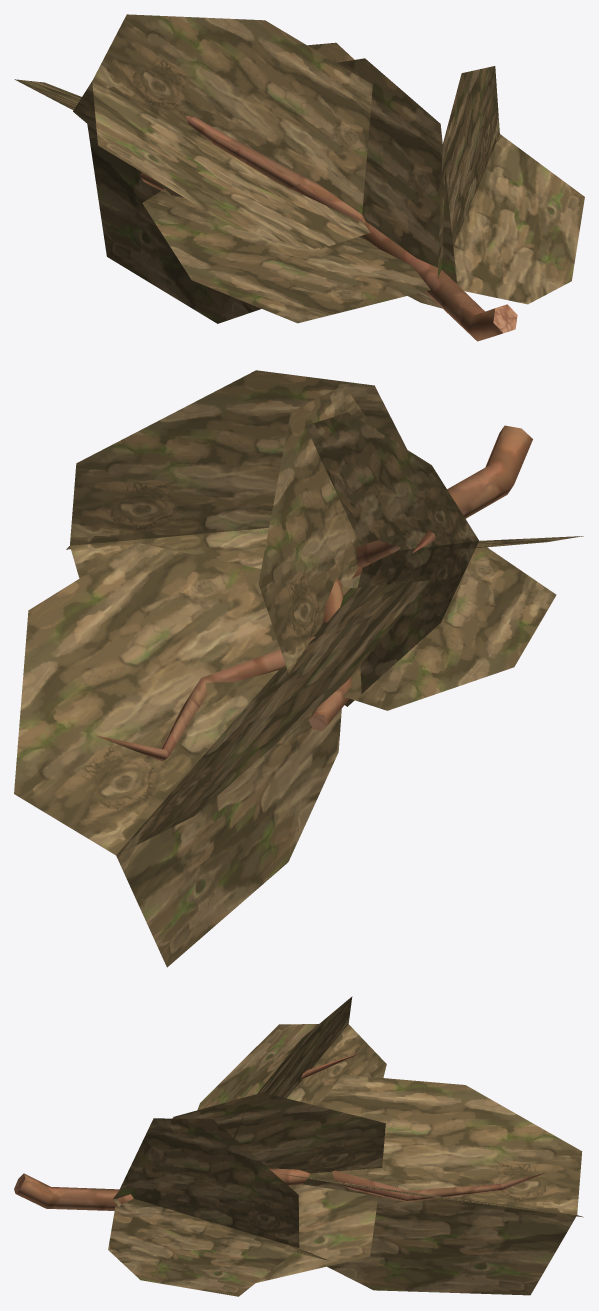
File: P_FirBranch1.obj
3 renders of one model, top to bottom at view 1: azimuth 30°, elevation 25°; view 2: azimuth 150°, elevation 25°; view 3: azimuth 270°, elevation 25°, orthographic. The views are drawn at different scales.
Bounding box in the file's own units: 2.05 × 1.51 × 2.98.
